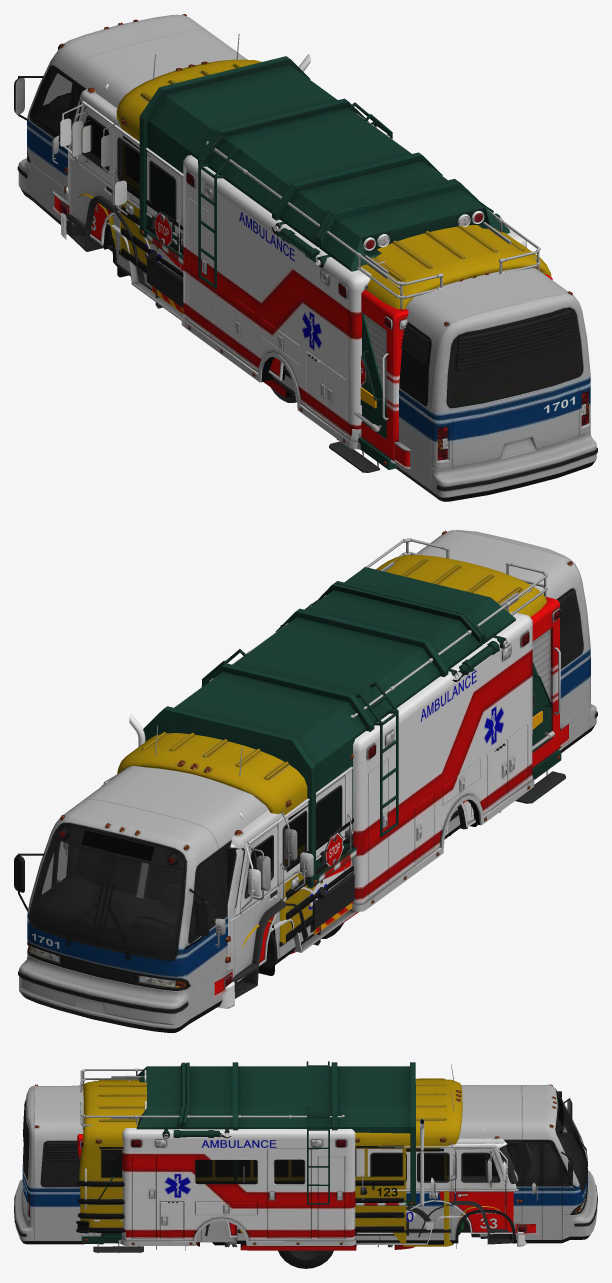
The model's file is vehicles.glb.
3 views of the same model, one above another, from view 1: azimuth 30°, elevation 25°; view 2: azimuth 150°, elevation 25°; view 3: azimuth 270°, elevation 25° (orthographic). The views are drawn at different scales.
Visible parts, largest first — view 1: citybus, garbage_truck, ambulance, fire_truck, school_bus, towtruck; view 2: citybus, garbage_truck, ambulance, fire_truck, school_bus; view 3: citybus, ambulance, garbage_truck, school_bus, fire_truck, fire_truck__wheel, Sport_body.
Part boxes in pixels (x1,y1,x2,y2): citybus: (14,14,597,501); garbage_truck: (60,54,510,472); ambulance: (100,155,526,449); fire_truck: (53,34,552,469); school_bus: (51,59,551,386); towtruck: (81,119,376,408); citybus: (14,530,597,1032); garbage_truck: (63,567,565,1008); ambulance: (270,611,534,952); fire_truck: (73,538,570,998); school_bus: (57,555,546,975); citybus: (14,1084,597,1244); ambulance: (116,1075,492,1245); garbage_truck: (81,1061,526,1253); school_bus: (76,1078,537,1250); fire_truck: (77,1064,539,1249); fire_truck__wheel: (278,1250,333,1268); Sport_body: (196,1242,415,1250).
Size of the model in its own units: 2.74 by 3.6 by 10.4.
83 materials, 72 textured.
